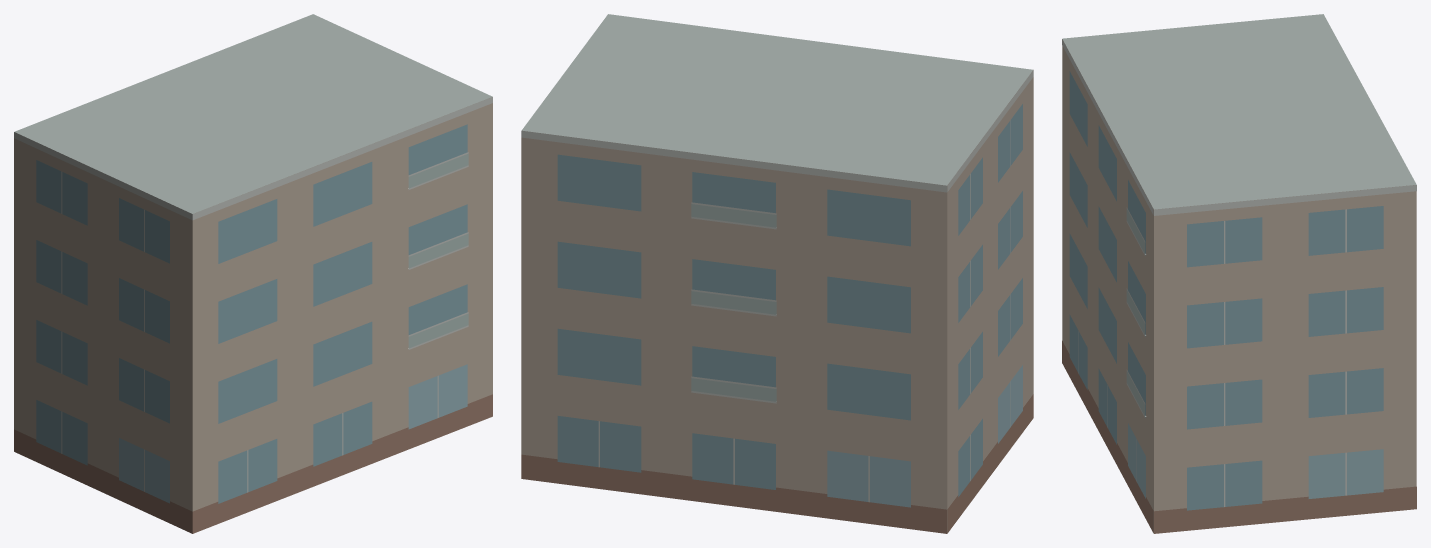
The model's file is survey-upis-32693191.glb.
3 views of the same model, side by side, from view 1: azimuth 30°, elevation 25°; view 2: azimuth 150°, elevation 25°; view 3: azimuth 270°, elevation 25° (orthographic). The views are drawn at different scales.
Visible parts, largest first — view 1: survey-upis-32693191.tmp; view 2: survey-upis-32693191.tmp; view 3: survey-upis-32693191.tmp.
Part boxes in pixels (left/top/right/bottom): survey-upis-32693191.tmp: left=14, top=14, right=492, bottom=533; survey-upis-32693191.tmp: left=521, top=14, right=1033, bottom=533; survey-upis-32693191.tmp: left=1062, top=14, right=1416, bottom=533.
Size of the model in its own units: 15.87 by 12.27 by 12.17.
